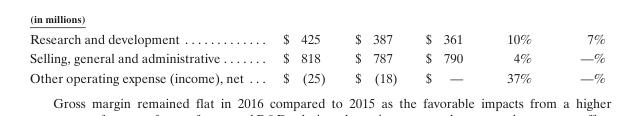table: (29, 29, 604, 85)
table column: (29, 29, 262, 85), (262, 29, 339, 85), (410, 29, 484, 85), (339, 29, 410, 85), (484, 29, 555, 85), (555, 29, 604, 85)
table column header: (29, 29, 604, 47)
table row: (29, 47, 604, 66), (29, 66, 604, 85), (29, 29, 604, 47)
